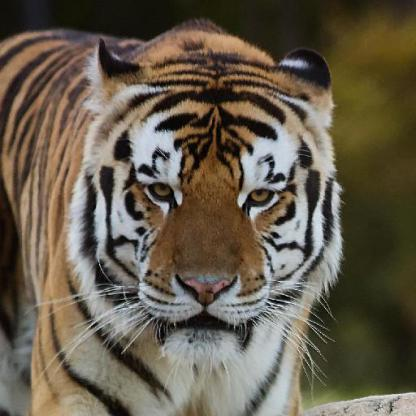tiger: (86, 29, 310, 367)
